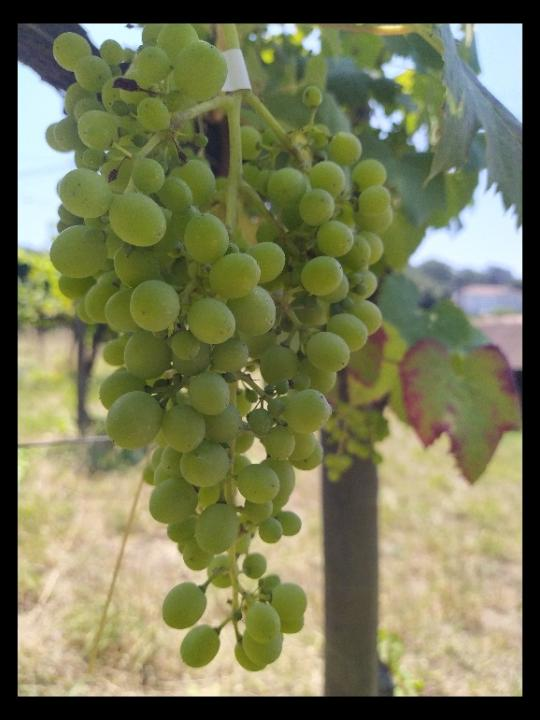grape: (44, 27, 395, 676)
